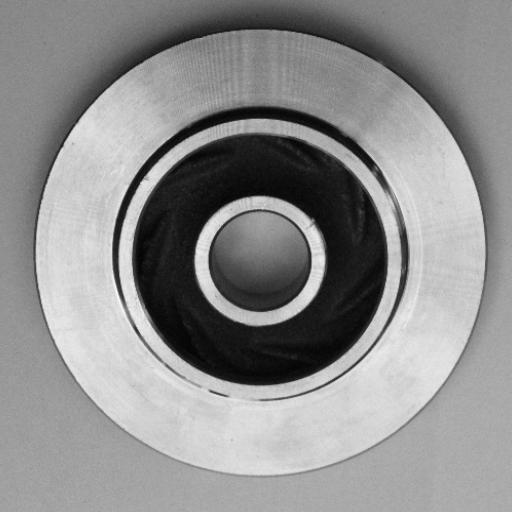scratch: (294, 204, 327, 249)
unpolished_casting: (34, 24, 488, 481)
